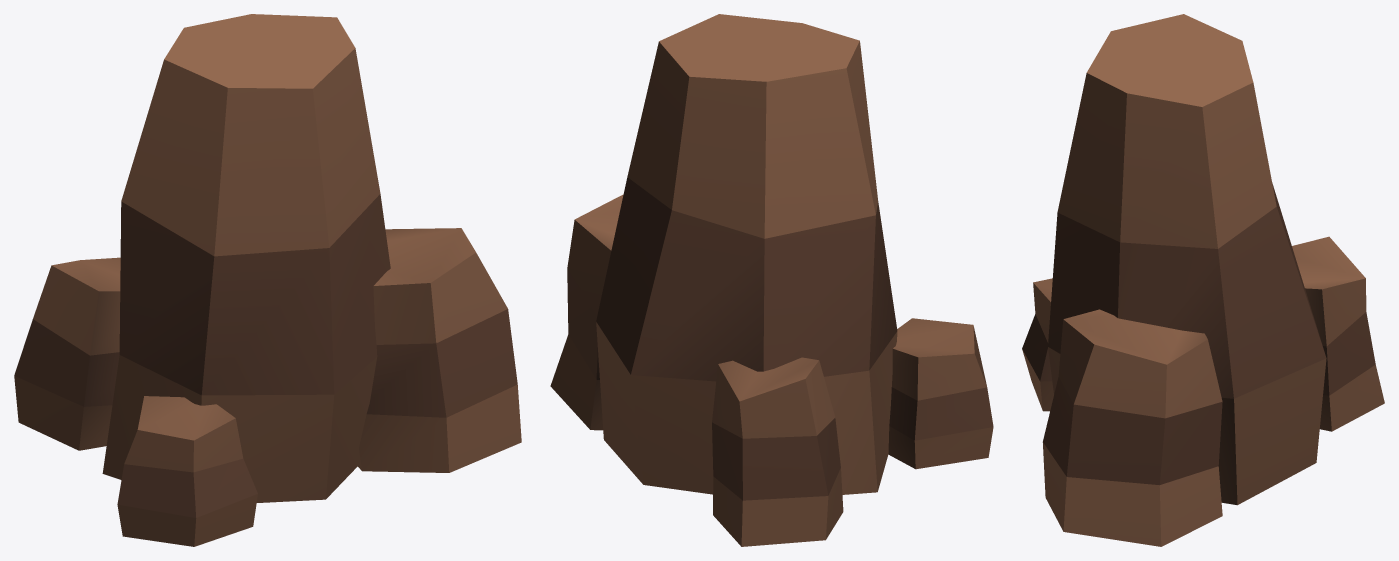
The model's file is rocher_a.glb.
The picture shows the model from 3 angles, left to right: view 1: azimuth 30°, elevation 25°; view 2: azimuth 150°, elevation 25°; view 3: azimuth 270°, elevation 25°; orthographic projection. The views are drawn at different scales.
Visible parts, largest first — view 1: rocher_a; view 2: rocher_a; view 3: rocher_a.
Boxes of the visible parts, x1=… form: rocher_a: x1=14, y1=14, x2=521, y2=546; rocher_a: x1=550, y1=14, x2=993, y2=546; rocher_a: x1=1022, y1=14, x2=1384, y2=546.
Size of the model in its own units: 0.818 by 0.7831 by 0.659.
